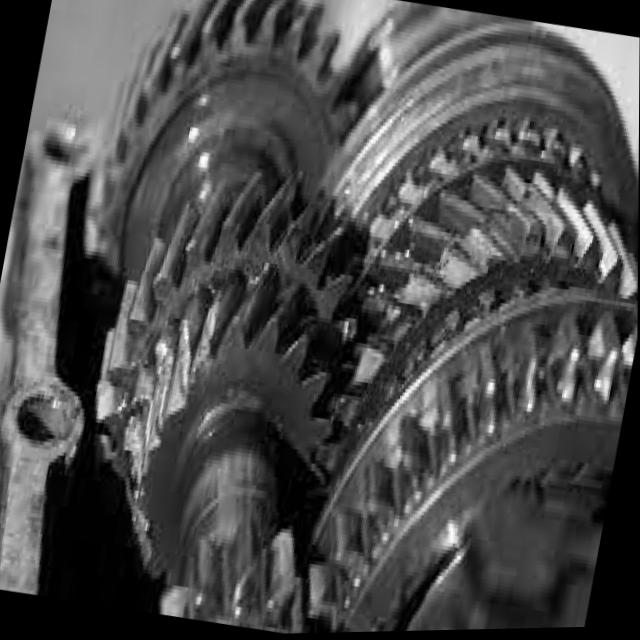Fault-Exist: (81, 262, 241, 610), (389, 191, 525, 350)
No Fault: (103, 131, 392, 290)
